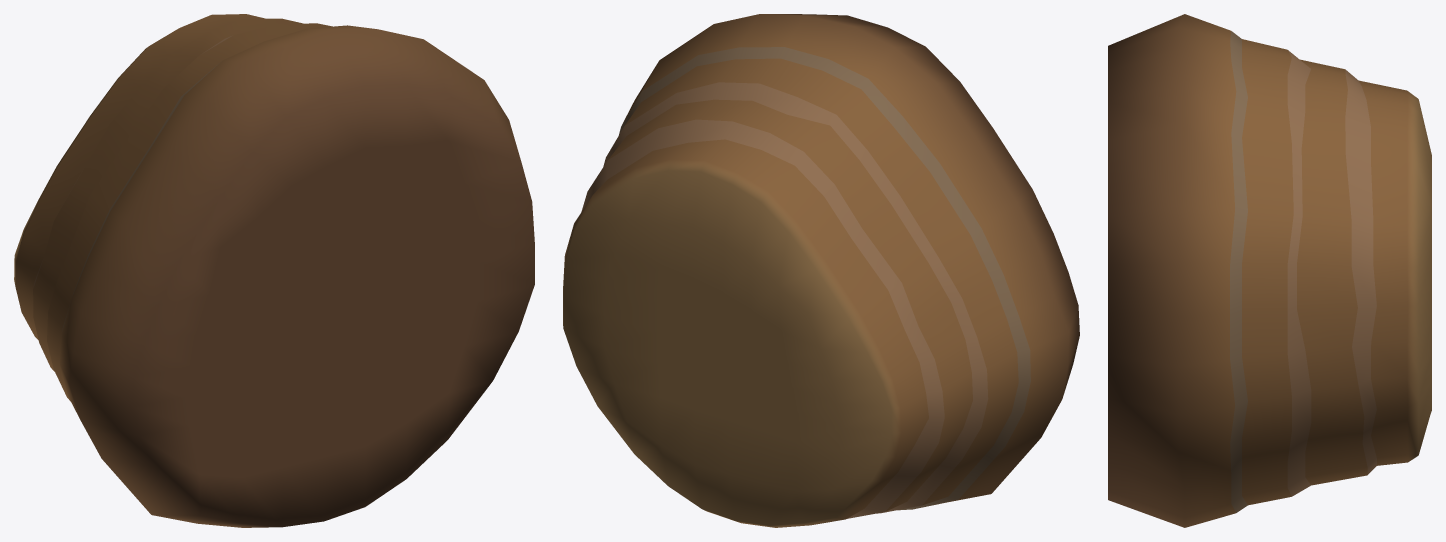
The model's file is SandstoneRockTiny.003.glb.
3 renders of one model, left to right at view 1: azimuth 30°, elevation 25°; view 2: azimuth 150°, elevation 25°; view 3: azimuth 270°, elevation 25°, orthographic.
Visible parts, largest first — view 1: SandstoneRockTiny.003; view 2: SandstoneRockTiny.003; view 3: SandstoneRockTiny.003.
Part boxes in pixels (left/top/right/bottom): SandstoneRockTiny.003: left=14, top=14, right=534, bottom=527; SandstoneRockTiny.003: left=563, top=14, right=1079, bottom=527; SandstoneRockTiny.003: left=1108, top=14, right=1431, bottom=527.
Size of the model in its own units: 3011 by 3040 by 1849.
